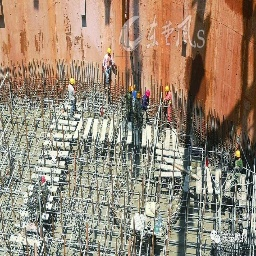helmet: (234, 149, 242, 162), (164, 84, 171, 93), (107, 45, 112, 54), (146, 89, 151, 96), (71, 78, 77, 83), (128, 86, 132, 93), (137, 95, 142, 99)
no-vest: (69, 86, 73, 97)
person: (102, 46, 117, 90), (66, 76, 80, 117), (164, 85, 174, 128), (133, 90, 143, 132), (141, 89, 150, 125), (233, 149, 242, 175), (127, 85, 133, 123)
